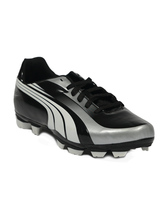shoes: (7, 56, 161, 162)
